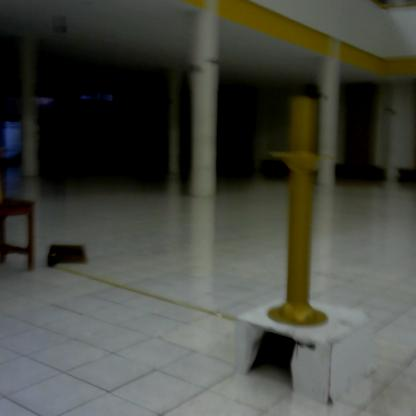pole: (264, 89, 336, 340)
